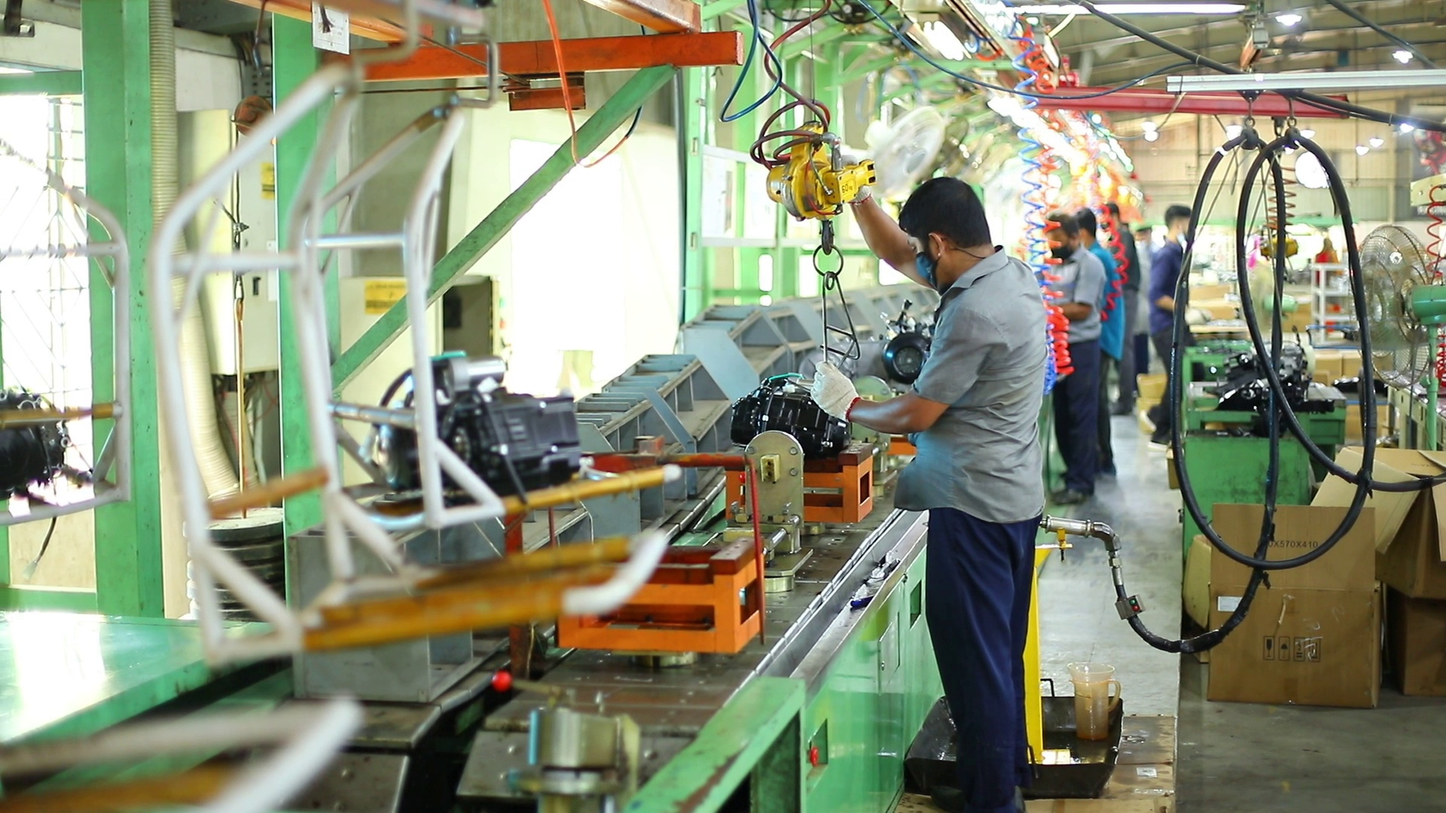mask: (914, 251, 938, 288), (1047, 245, 1069, 266)
person: (808, 175, 1049, 813), (1039, 213, 1109, 505), (1146, 202, 1213, 451), (1075, 207, 1126, 480), (1103, 201, 1150, 419)
